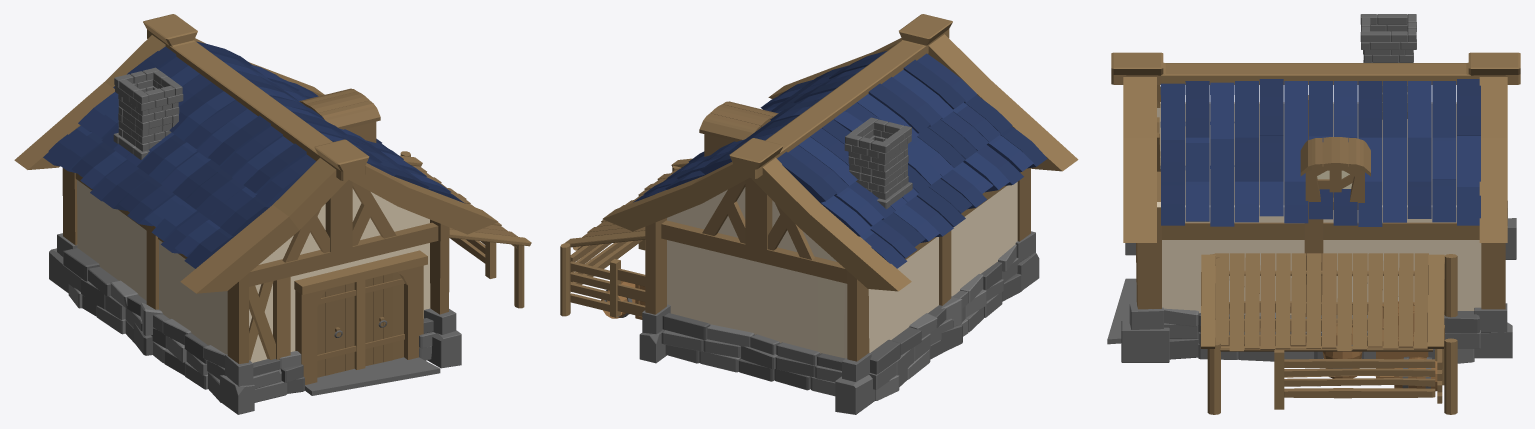
File: Sclad1 (1).fbx
The picture shows the model from 3 angles, left to right: view 1: azimuth 30°, elevation 25°; view 2: azimuth 150°, elevation 25°; view 3: azimuth 270°, elevation 25°; orthographic projection. The views are drawn at different scales.
Parts seen in each view (by area): view 1: Cube.031, Cube.030, Cube.008, Cube.005, Cube.051, Cube.029, Cube.006, Cube.095, Cube.037, Plane.001, Cube.020, Cube.139 (+15 smaller); view 2: Cube.031, Plane.001, Cube.030, Cube.008, Cube.005, Cube.022, Cube.051, Cube.029, Cube.006, Cube.095, Cube.028, Cube.012 (+9 smaller); view 3: Cube.031, Cube.017, Cube.008, Cube.030, Cube.029, Cube.005, Cube.015, Cube.042, Cube.051, Cube.007, Circle.001, Cube.095 (+12 smaller).
Boxes of the visible parts, x1,y1,x2,y2 form: Cube.031: (43, 41, 464, 268); Cube.030: (14, 35, 497, 293); Cube.008: (77, 180, 227, 354); Cube.005: (49, 168, 461, 414); Cube.051: (62, 248, 225, 402); Cube.029: (143, 14, 369, 180); Cube.006: (249, 180, 438, 286); Cube.095: (113, 67, 183, 159); Cube.037: (325, 273, 392, 375); Plane.001: (249, 188, 430, 362); Cube.020: (295, 265, 423, 384); Cube.139: (305, 357, 440, 395); Cube.031: (633, 51, 1047, 268); Plane.001: (667, 187, 847, 358); Cube.030: (602, 34, 1078, 291); Cube.008: (868, 182, 1017, 352); Cube.005: (639, 168, 1039, 414); Cube.022: (661, 313, 844, 396); Cube.051: (869, 244, 1021, 400); Cube.029: (729, 14, 952, 178); Cube.006: (661, 177, 847, 283); Cube.095: (844, 117, 912, 209); Cube.028: (702, 180, 814, 259); Cube.012: (570, 261, 609, 311); Cube.031: (1160, 79, 1480, 226); Cube.017: (1214, 253, 1428, 351); Cube.008: (1157, 102, 1481, 314); Cube.030: (1123, 77, 1507, 242); Cube.029: (1111, 52, 1520, 84); Cube.005: (1121, 201, 1516, 362); Cube.015: (1284, 359, 1435, 398); Cube.042: (1162, 222, 1479, 239); Cube.051: (1164, 308, 1480, 363); Cube.007: (1200, 254, 1444, 348); Circle.001: (1207, 254, 1457, 414); Cube.095: (1360, 14, 1416, 119).
Bounding box in the file's own units: 530 × 322 × 491.
